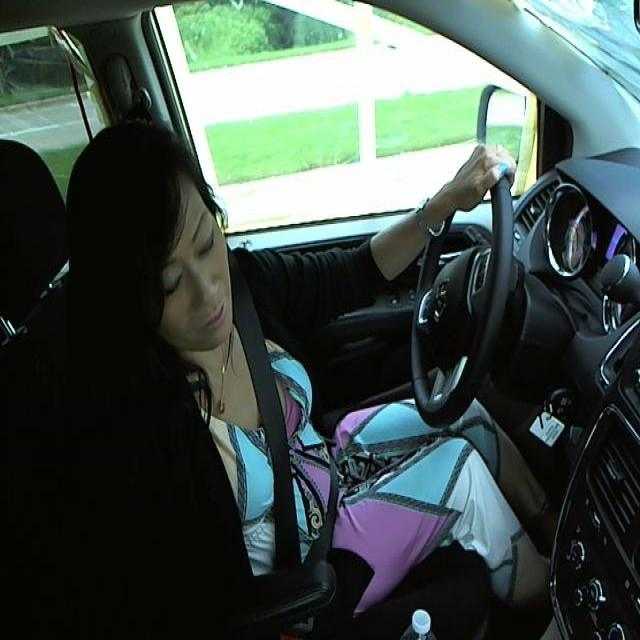seatbelt: (238, 318, 350, 566)
